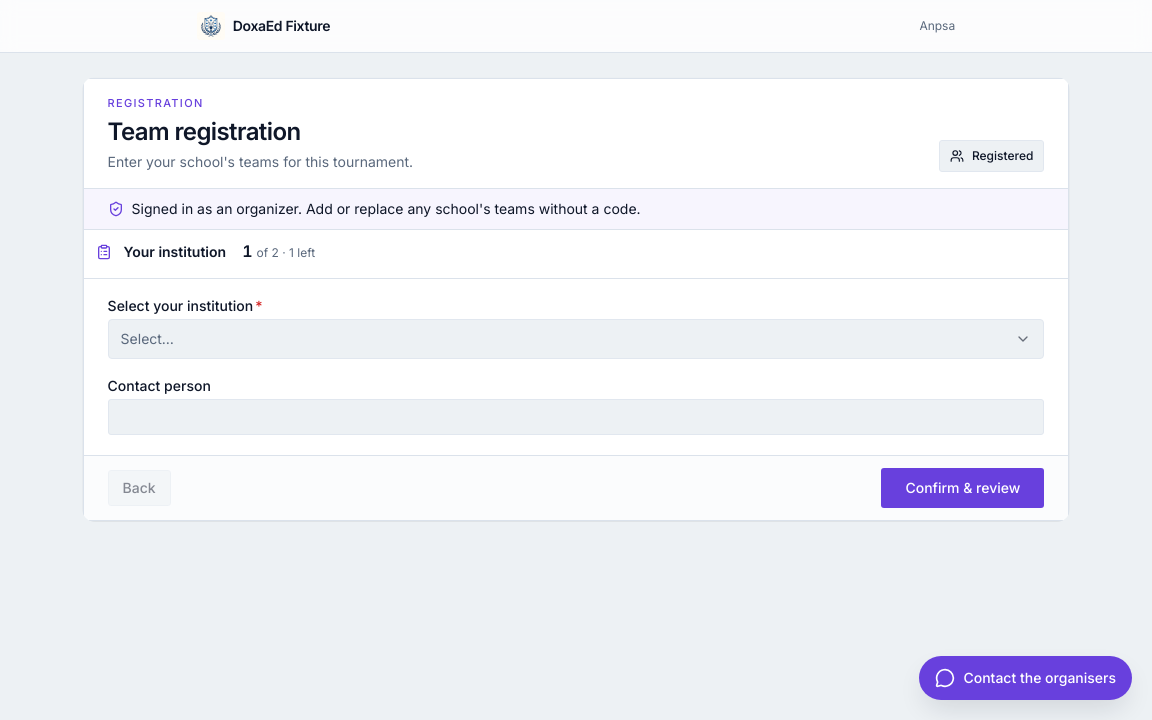
Test: PublicFormPage › manager path: no code panel, school details prefill on selection
Expected: the heading "Team registration" is shown, [108,116,300,146]
Expected: the text "Signed in as an organizer" is shown, [132,200,641,216]
Step 1. Click the button with aria-label "select your institution" → click(147, 338), box [108,318,1044,358]
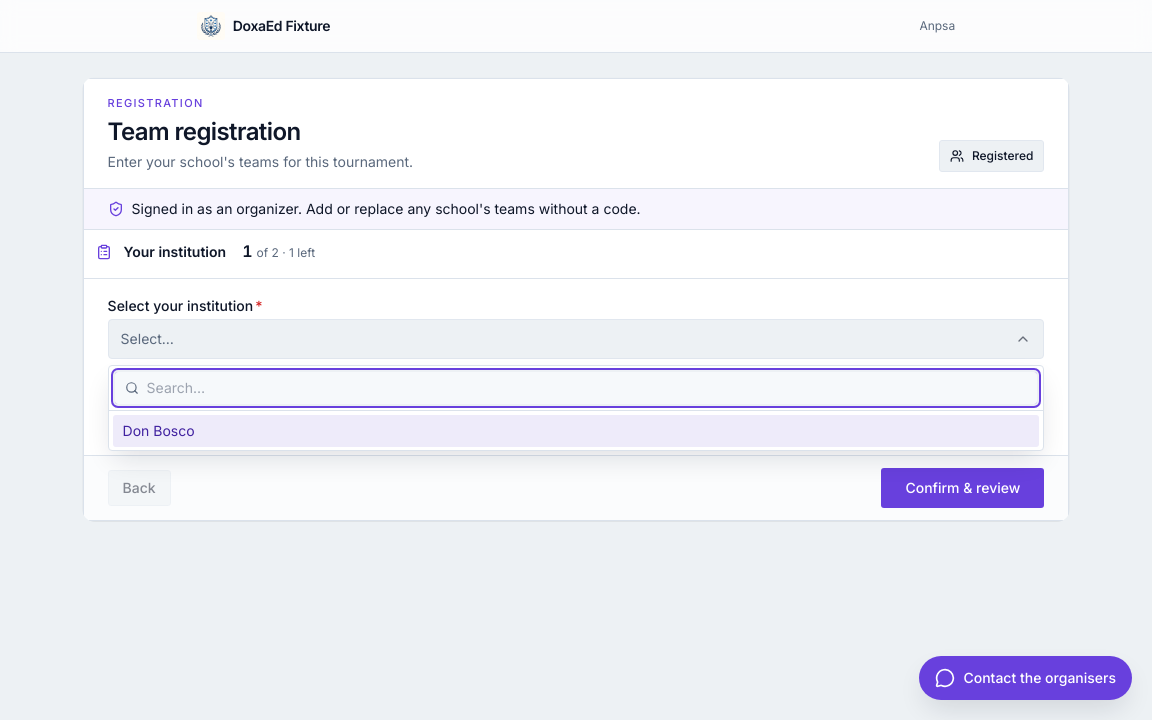
Step 2. Click the option "Don Bosco" → click(159, 430), box [113,414,1039,446]
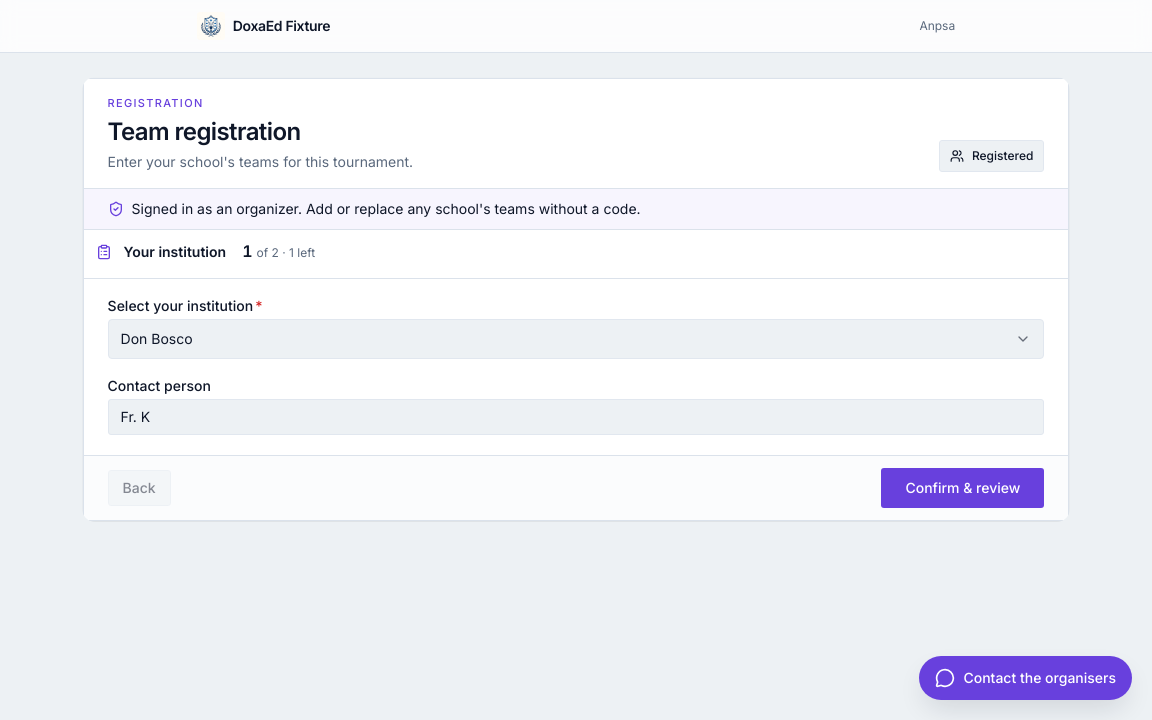
Now the field labelled "Contact person" holds "Fr. K", box [108,398,1044,434]
